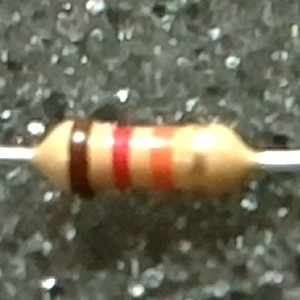brown_band: (65, 113, 96, 199)
gold_band: (189, 122, 209, 198)
orange_band: (148, 123, 178, 193)
red_band: (108, 121, 135, 192)
